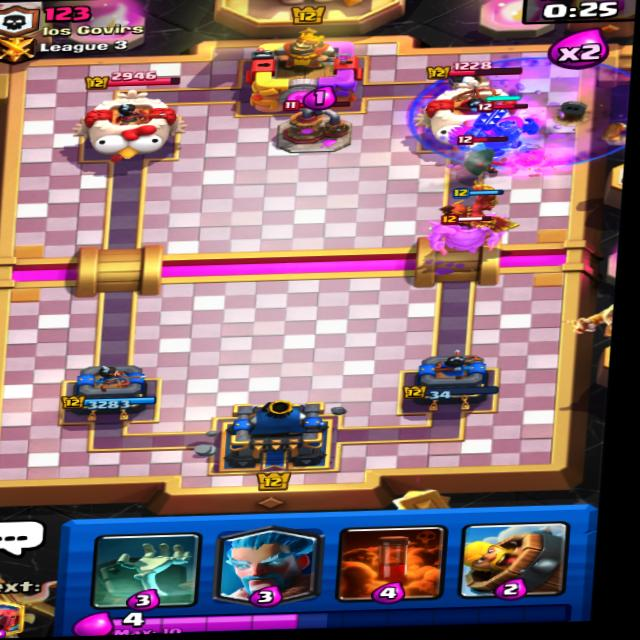bandit: (447, 132, 511, 180)
elixir-collector: (261, 97, 367, 160)
pekka: (421, 212, 498, 264)
skeleton-king: (459, 99, 535, 159)
